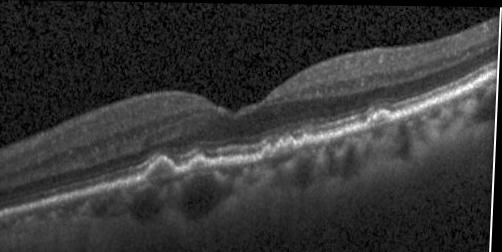retinal_drusen: (149, 159, 175, 178), (276, 138, 295, 153), (372, 111, 390, 124), (191, 158, 207, 171), (263, 147, 272, 158), (305, 135, 314, 143), (297, 141, 302, 147)
